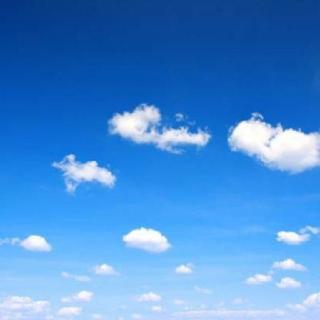Cumulus: (0, 98, 320, 320)
